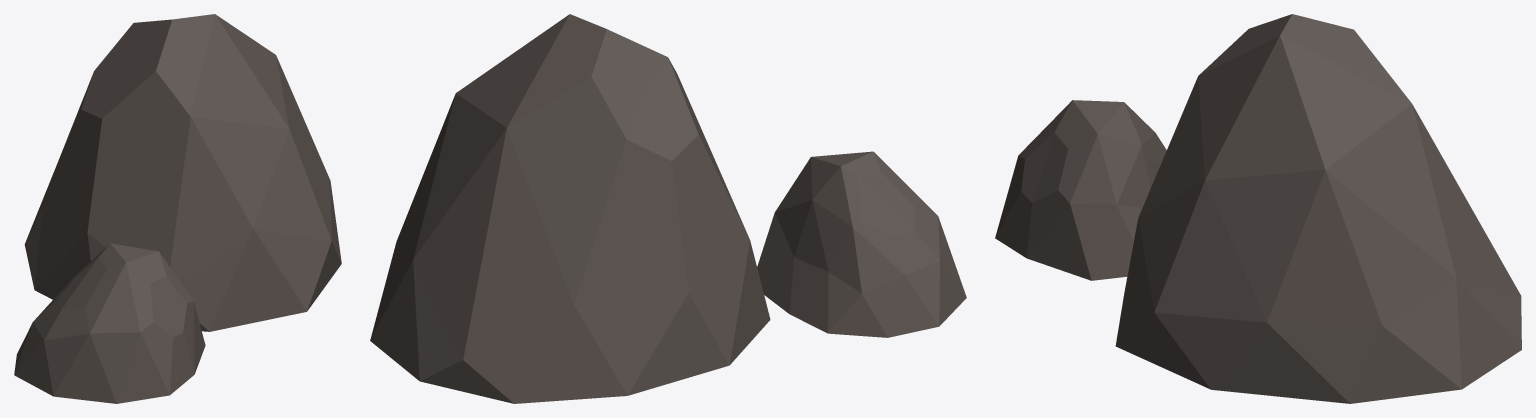
Rendered from Stone(2).fbx.
3 views of the same model, side by side, from view 1: azimuth 30°, elevation 25°; view 2: azimuth 150°, elevation 25°; view 3: azimuth 270°, elevation 25° (orthographic). The views are drawn at different scales.
Parts seen in each view (by area): view 1: Stone(2); view 2: Stone(2); view 3: Stone(2).
Boxes of the visible parts, bbox=[...] form: Stone(2): bbox=[14, 14, 341, 403]; Stone(2): bbox=[370, 14, 966, 403]; Stone(2): bbox=[995, 14, 1521, 403].
Size of the model in its own units: 1.61 by 1.02 by 1.62.
